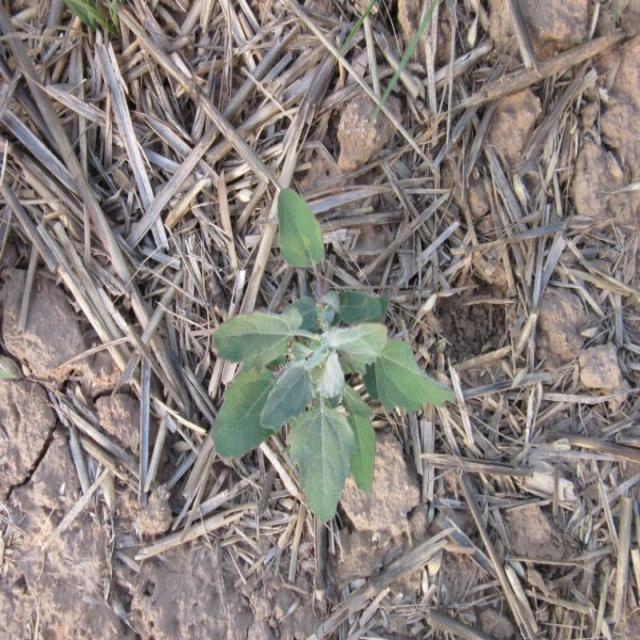ca: (209, 187, 449, 520)
